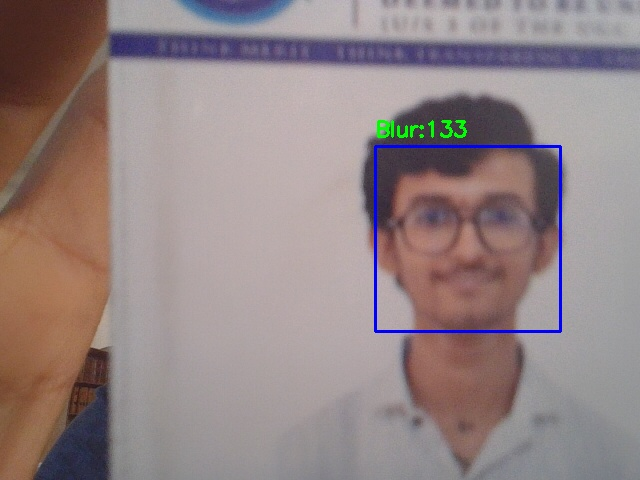fake: (375, 146, 560, 331)
